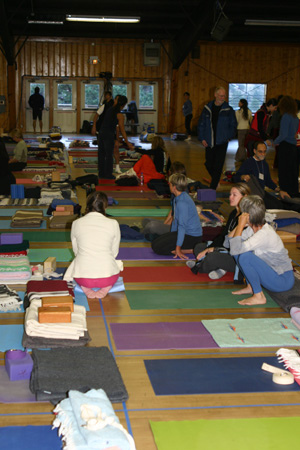person: (64, 191, 124, 298), (199, 86, 238, 189)
